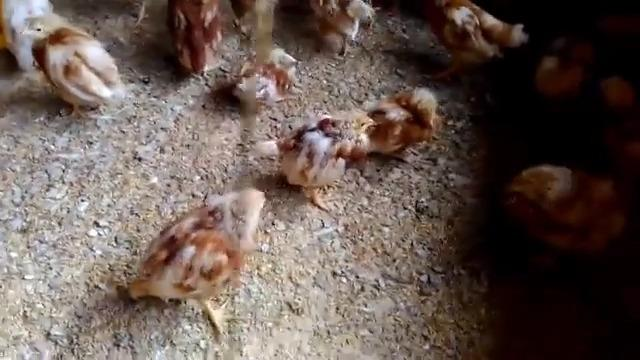AbNormal: (106, 189, 274, 344)
